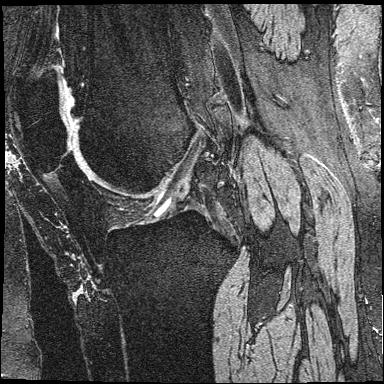SagKneeJointArea: (12, 68, 240, 291)
